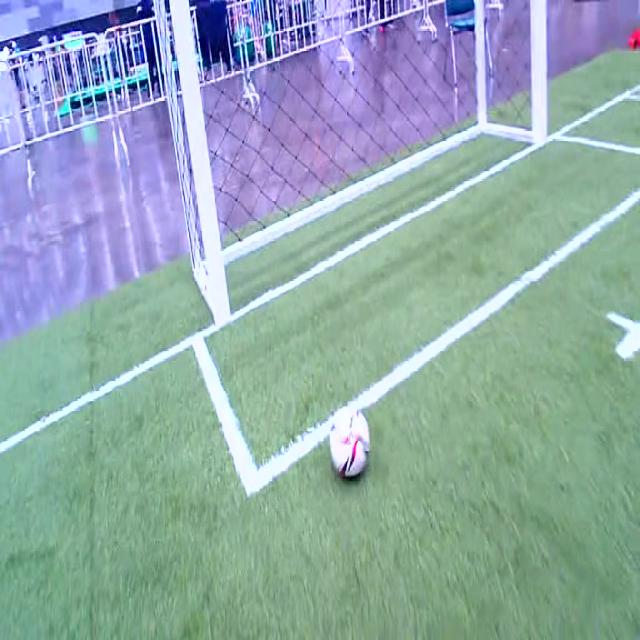ball: (330, 406, 370, 476)
